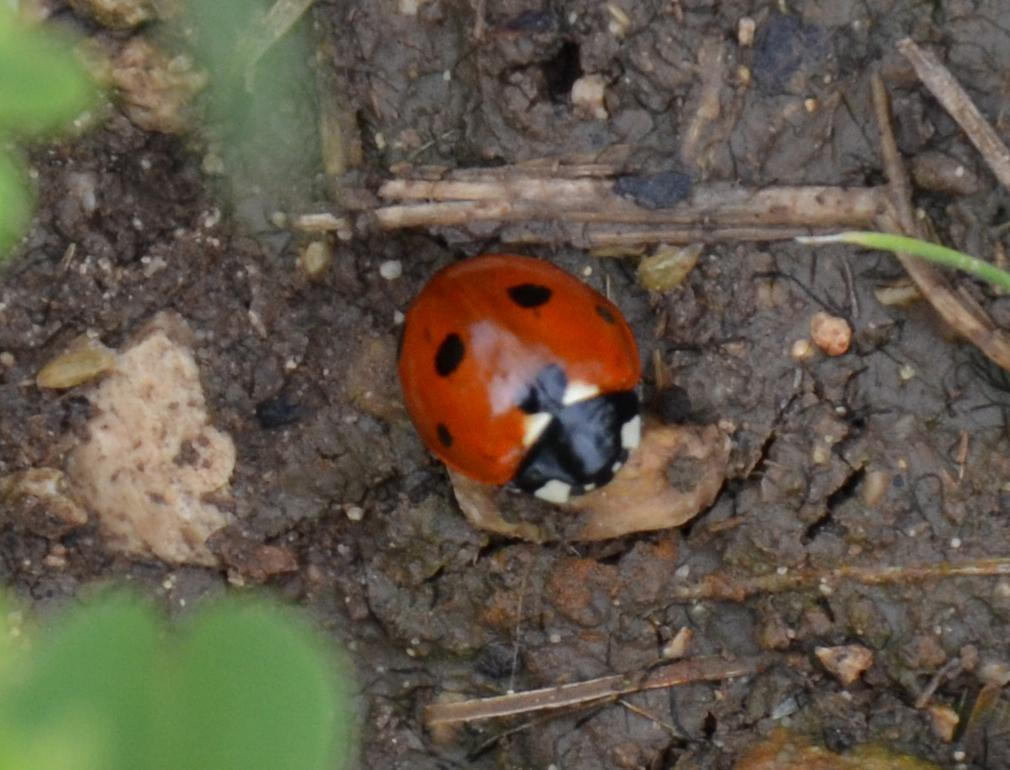ladybug: (395, 251, 647, 509)
